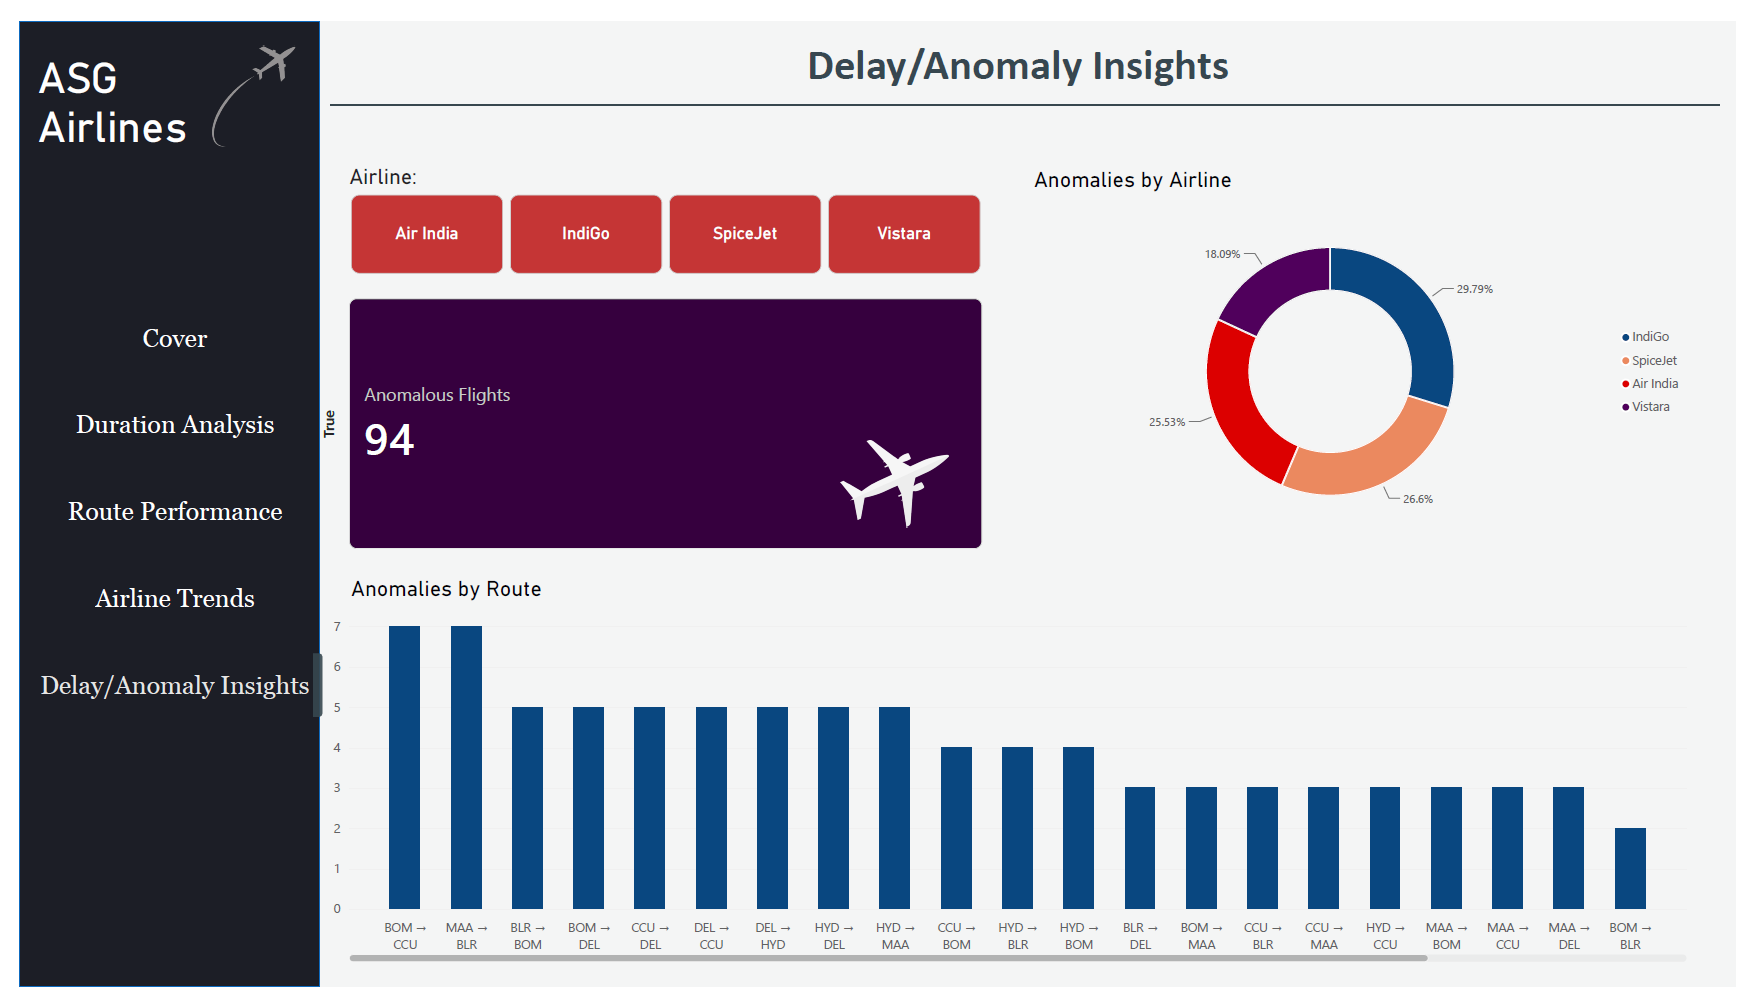

The page's visual inventory and layout, read from the dashboard file:
{"tool":"powerbi","page":{"name":"Delay/Anomaly Insights","canvas":[1920,1080],"ordinal":4},"visuals":[{"type":"cardVisual","fields":{"Rows":["flights_cleaned.is_anomaly"],"Data":["CountNonNull(flights_cleaned.flight_id)"]},"box":[335.5,309.7,741.9,280.6],"z":0},{"type":"clusteredColumnChart","fields":{"Category":["flights_cleaned.route"],"Y":["CountNonNull(flights_cleaned.flight_id)"]},"box":[335.5,651.6,1545.2,416.1],"z":1000},{"type":"pieChart","fields":{"Y":["CountNonNull(flights_cleaned.flight_id)"],"Category":["flights_cleaned.airline"]},"box":[1125.8,195.2,754.8,395.2],"z":2000},{"type":"shape","box":[0,0,335.6,1079.7],"z":3000},{"type":"textbox","box":[543.5,17.7,1146.8,62.9],"z":5000},{"type":"shape","box":[348.4,80.6,1553.2,24.2],"z":6000},{"type":"textbox","box":[369.4,159.7,375.8,50],"z":7000},{"type":"advancedSlicerVisual","fields":{"Values":["flights_cleaned.airline"]},"box":[371,193.5,706.5,88.7],"z":8000},{"type":"textbox","box":[1135.5,162.9,337.1,59.7],"z":9000},{"type":"textbox","box":[371,621,337.1,59.7],"z":10000},{"type":"image","box":[882.3,469.4,195.2,96.8],"z":11000},{"type":"textbox","box":[21,35.5,204.8,116.1],"z":12000},{"type":"image","box":[193.5,27.4,135.5,112.9],"z":13000},{"type":"pageNavigator","box":[0,309.7,348.4,535.5],"z":13001}]}

Visuals, with their boxes in screenshot pixels (x1, y1, x2, y2), scaled from the page's 1920x1080 canvas onto the 1754x1005 screenshot:
cardVisual - flights_cleaned.is_anomaly x CountNonNull(flights_cleaned.flight_id): 306, 288, 984, 549
clusteredColumnChart - flights_cleaned.route x CountNonNull(flights_cleaned.flight_id): 306, 606, 1718, 994
pieChart - CountNonNull(flights_cleaned.flight_id) x flights_cleaned.airline: 1028, 182, 1718, 549
shape: 0, 0, 307, 1004
textbox: 497, 16, 1544, 75
shape: 318, 75, 1737, 98
textbox: 337, 149, 681, 195
advancedSlicerVisual - flights_cleaned.airline: 339, 180, 984, 263
textbox: 1037, 152, 1345, 207
textbox: 339, 578, 647, 633
image: 806, 437, 984, 527
textbox: 19, 33, 206, 141
image: 177, 25, 301, 131
pageNavigator: 0, 288, 318, 787
